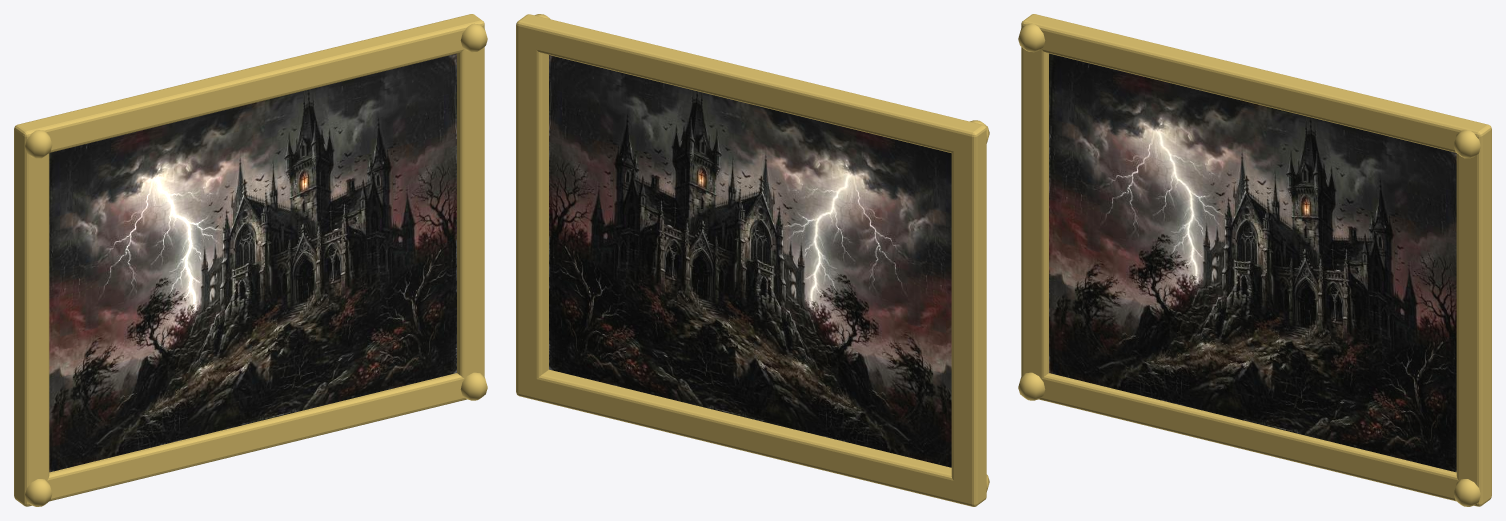
File: art_haunted_manor.glb
3 views of the same model, side by side, from view 1: azimuth 30°, elevation 25°; view 2: azimuth 150°, elevation 25°; view 3: azimuth 330°, elevation 25° (orthographic).
Parts seen in each view (by area): view 1: GD_art_haunted_manor__m0, GD_art_haunted_manor__m1; view 2: GD_art_haunted_manor__m0, GD_art_haunted_manor__m1; view 3: GD_art_haunted_manor__m0, GD_art_haunted_manor__m1.
Part boxes in pixels (<box>): GD_art_haunted_manor__m0: <box>49,53,456,472</box>; GD_art_haunted_manor__m1: <box>14,14,487,506</box>; GD_art_haunted_manor__m0: <box>549,55,951,467</box>; GD_art_haunted_manor__m1: <box>516,14,989,506</box>; GD_art_haunted_manor__m0: <box>1049,53,1456,472</box>; GD_art_haunted_manor__m1: <box>1018,14,1491,506</box>.
Bounding box in the file's own units: 1.26 × 0.98 × 0.095.
2 materials, 1 textured.
